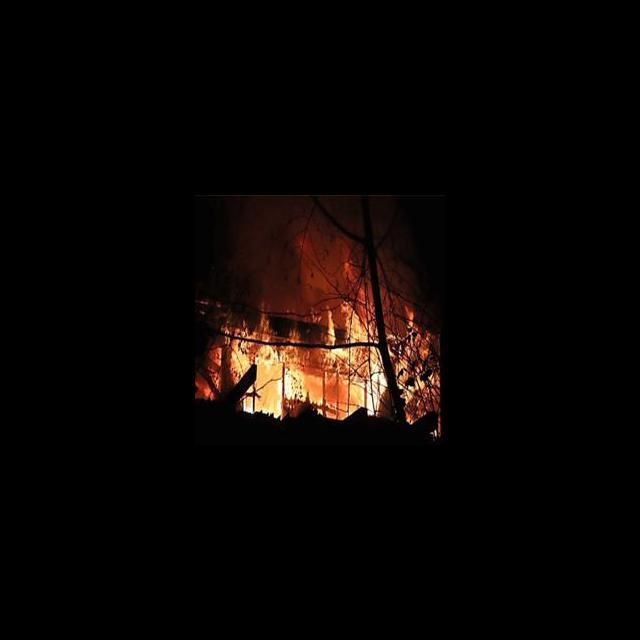Fire: (222, 324, 444, 420)
